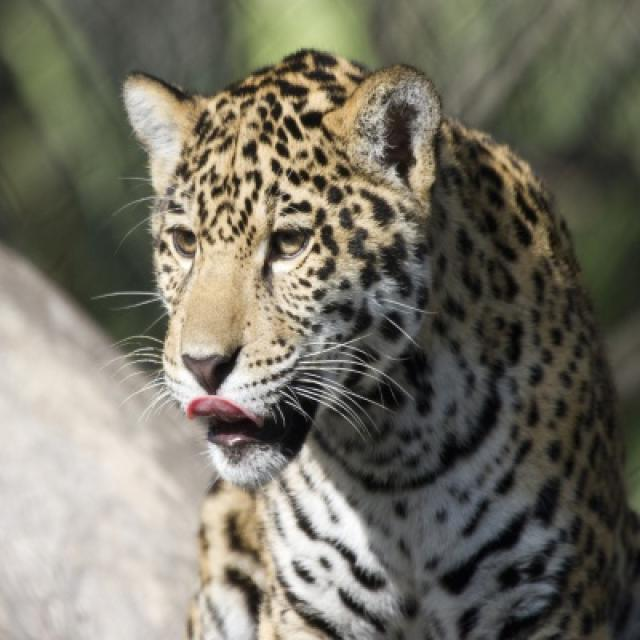Jaguar: (102, 48, 638, 638)
